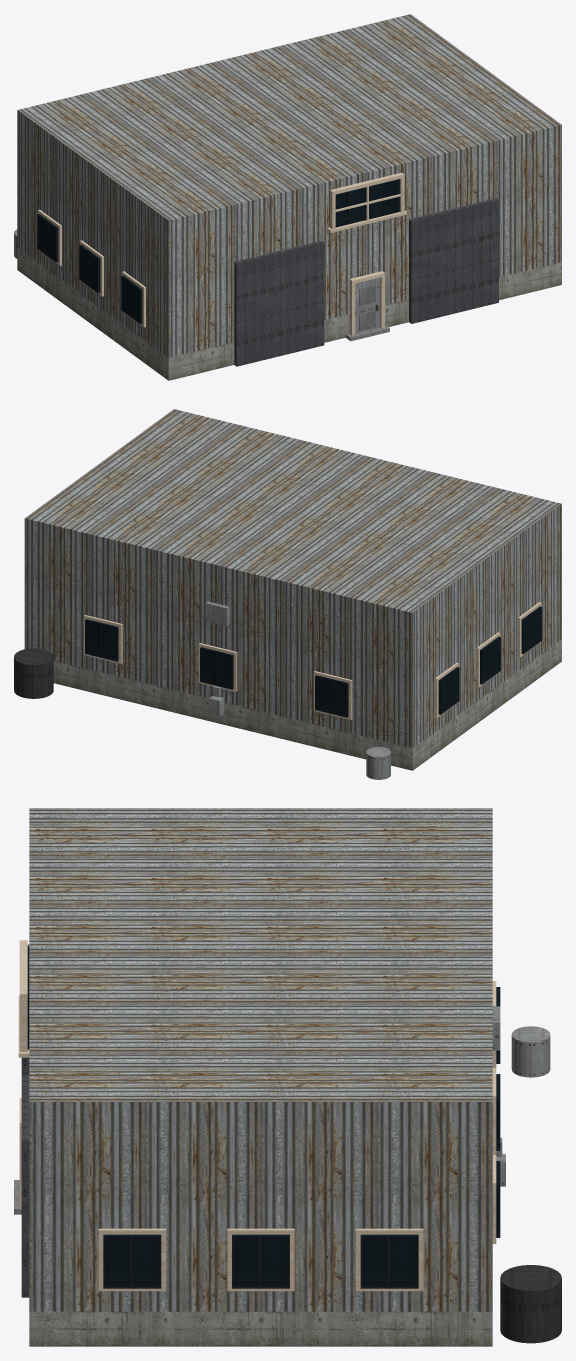
Rendered from farm-workshop_lod0.gltf.
The picture shows the model from 3 angles, top to bottom: view 1: azimuth 30°, elevation 25°; view 2: azimuth 150°, elevation 25°; view 3: azimuth 270°, elevation 25°; orthographic projection. The views are drawn at different scales.
Visible parts, largest first — view 1: farm-workshop_upper, farm-workshop__bay_door_a, farm-workshop__bay_door_b, farm-workshop_base, farm-workshop_fen_07-glass-curtain-blue_5_t, farm-workshop_fen_04-limestone_0, farm-workshop_fen_14-steel-panel_1, farm-workshop_fen_14-steel-panel_2_t; view 2: farm-workshop_upper, farm-workshop_base, farm-workshop_fen_07-glass-curtain-blue_5_t, farm-workshop_fen_04-limestone_0, farm-workshop__tire_stacks, farm-workshop_fen_14-steel-panel_1, farm-workshop__fuel_drums; view 3: farm-workshop_upper, farm-workshop_base, farm-workshop_fen_07-glass-curtain-blue_5_t, farm-workshop_fen_04-limestone_0, farm-workshop__tire_stacks, farm-workshop__bay_door_b, farm-workshop__fuel_drums, farm-workshop_fen_14-steel-panel_1.
Part boxes in pixels (x1,y1,x2,y2): farm-workshop_upper: (17, 14, 561, 357); farm-workshop__bay_door_a: (234, 240, 324, 366); farm-workshop__bay_door_b: (409, 198, 498, 323); farm-workshop_base: (17, 247, 561, 380); farm-workshop_fen_07-glass-curtain-blue_5_t: (37, 179, 399, 324); farm-workshop_fen_04-limestone_0: (38, 172, 406, 335); farm-workshop_fen_14-steel-panel_1: (355, 277, 380, 333); farm-workshop_fen_14-steel-panel_2_t: (359, 285, 375, 330); farm-workshop_upper: (24, 409, 561, 748); farm-workshop_base: (53, 639, 561, 770); farm-workshop_fen_07-glass-curtain-blue_5_t: (85, 606, 542, 717); farm-workshop_fen_04-limestone_0: (84, 602, 541, 719); farm-workshop__tire_stacks: (14, 648, 53, 698); farm-workshop_fen_14-steel-panel_1: (205, 601, 229, 716); farm-workshop__fuel_drums: (366, 747, 390, 779); farm-workshop_upper: (29, 808, 492, 1311); farm-workshop_base: (29, 1311, 492, 1346); farm-workshop_fen_07-glass-curtain-blue_5_t: (27, 947, 500, 1288); farm-workshop_fen_04-limestone_0: (18, 940, 496, 1291); farm-workshop__tire_stacks: (500, 1265, 561, 1343); farm-workshop__bay_door_b: (21, 1075, 29, 1297); farm-workshop__fuel_drums: (511, 1026, 550, 1077); farm-workshop_fen_14-steel-panel_1: (492, 1006, 505, 1186).
Size of the model in its own units: 18.4 by 7 by 14.2.
